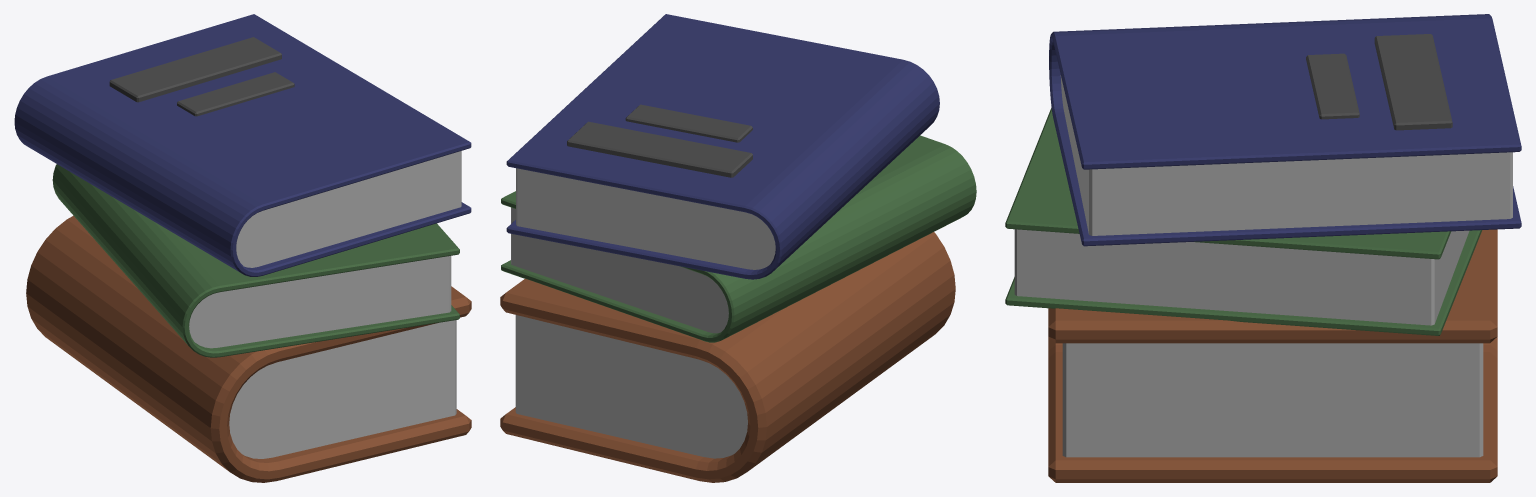
The model's file is Books_RGB.fbx.
The picture shows the model from 3 angles, left to right: view 1: azimuth 30°, elevation 25°; view 2: azimuth 150°, elevation 25°; view 3: azimuth 270°, elevation 25°; orthographic projection. The views are drawn at different scales.
Visible parts, largest first — view 1: Books_RGB; view 2: Books_RGB; view 3: Books_RGB.
Part boxes in pixels (x1=…): Books_RGB: x1=14, y1=14, x2=471, y2=482; Books_RGB: x1=500, y1=14, x2=976, y2=482; Books_RGB: x1=1005, y1=14, x2=1521, y2=482.
Size of the model in its own units: 16.3 by 14.55 by 20.21.
